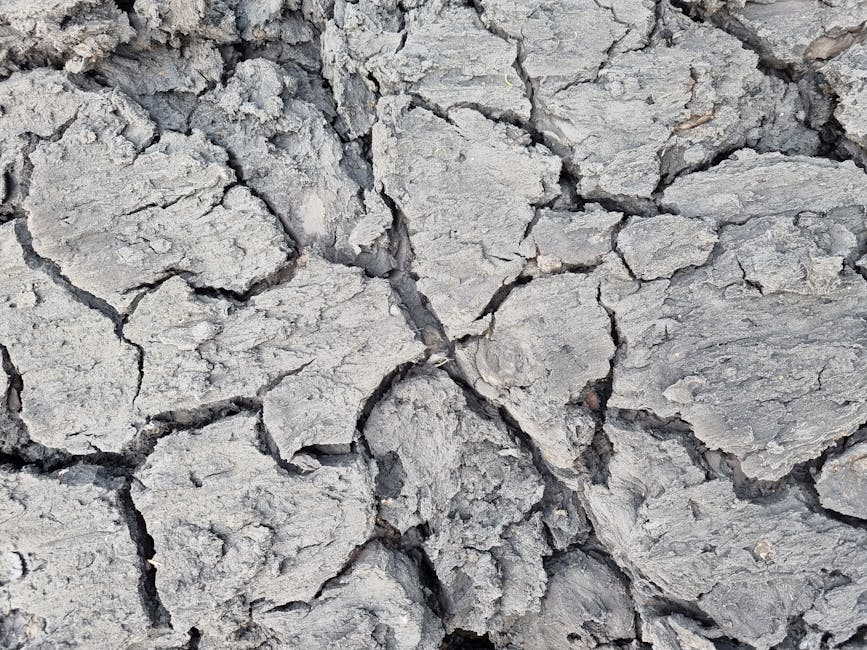深大裂缝: (7, 373, 252, 633), (661, 4, 865, 132)
网状裂隙: (323, 186, 851, 650)
